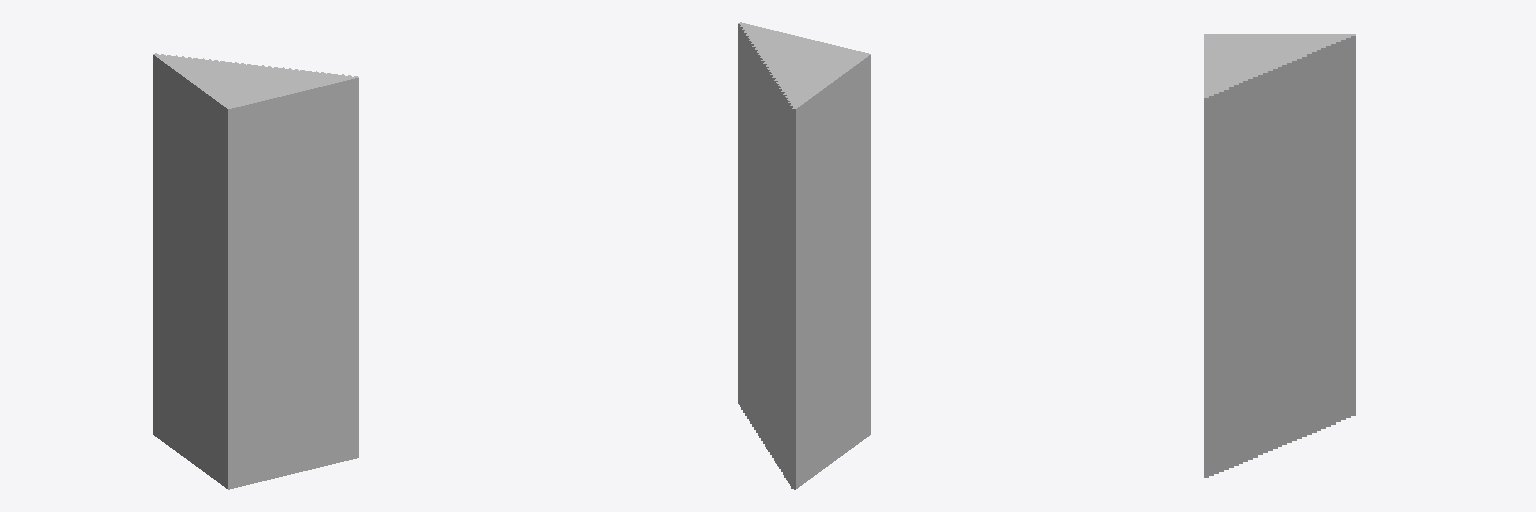
File: case_1.obj
3 renders of one model, left to right at view 1: azimuth 30°, elevation 25°; view 2: azimuth 150°, elevation 25°; view 3: azimuth 270°, elevation 25°, orthographic.
Parts seen in each view (by area): view 1: Untitled; view 2: Untitled; view 3: Untitled.
Part boxes in pixels (x1,y1,x2,y2): Untitled: (153,53,358,489); Untitled: (738,22,870,489); Untitled: (1204,34,1355,477).
Size of the model in its own units: 3.1 by 8.6 by 3.1.